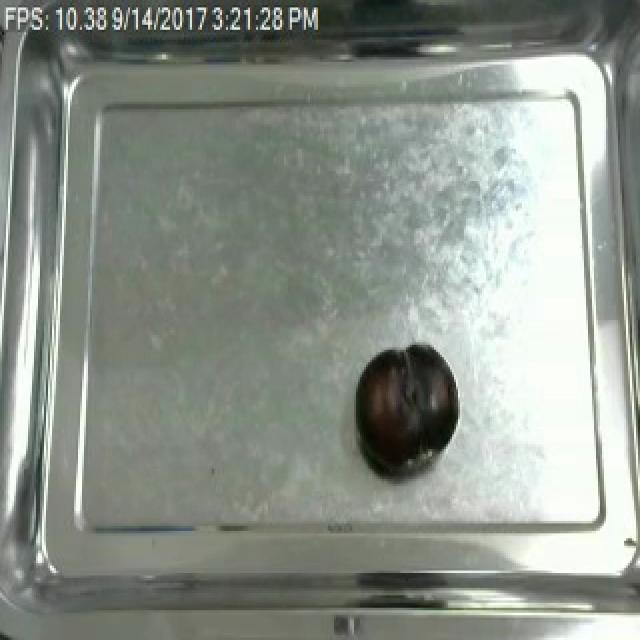Fruit: (352, 340, 458, 469)
